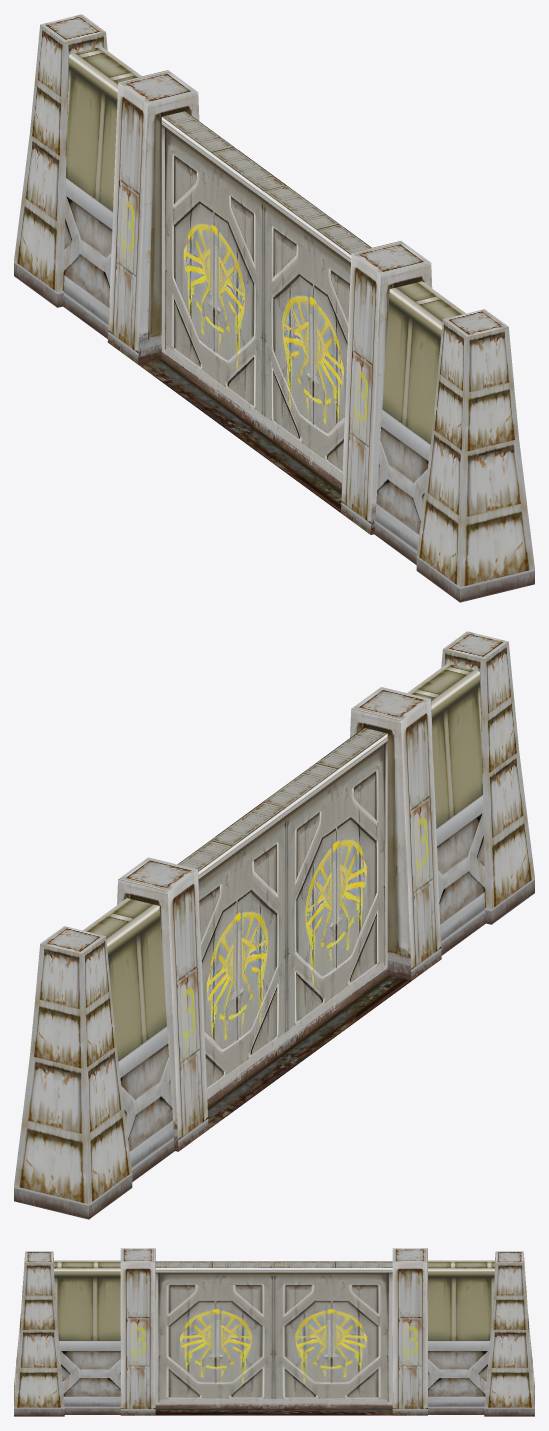
File: d_heavygate_hdtex.glb
3 renders of one model, top to bottom at view 1: azimuth 30°, elevation 25°; view 2: azimuth 150°, elevation 25°; view 3: azimuth 270°, elevation 25°, orthographic. The views are drawn at different scales.
Parts seen in each view (by area): view 1: D_HeavyGate, D_HeavyGateDoor; view 2: D_HeavyGate, D_HeavyGateDoor; view 3: D_HeavyGate, D_HeavyGateDoor.
Part boxes in pixels (x1,y1,x2,y2): D_HeavyGate: (14, 14, 534, 602); D_HeavyGateDoor: (161, 111, 371, 490); D_HeavyGate: (14, 631, 534, 1219); D_HeavyGateDoor: (177, 727, 387, 1106); D_HeavyGate: (14, 1248, 534, 1416); D_HeavyGateDoor: (155, 1261, 392, 1409).
Bounding box in the file's own units: 5.5 × 18.16 × 56.69.
Materials: 2 (2 with a texture image).
